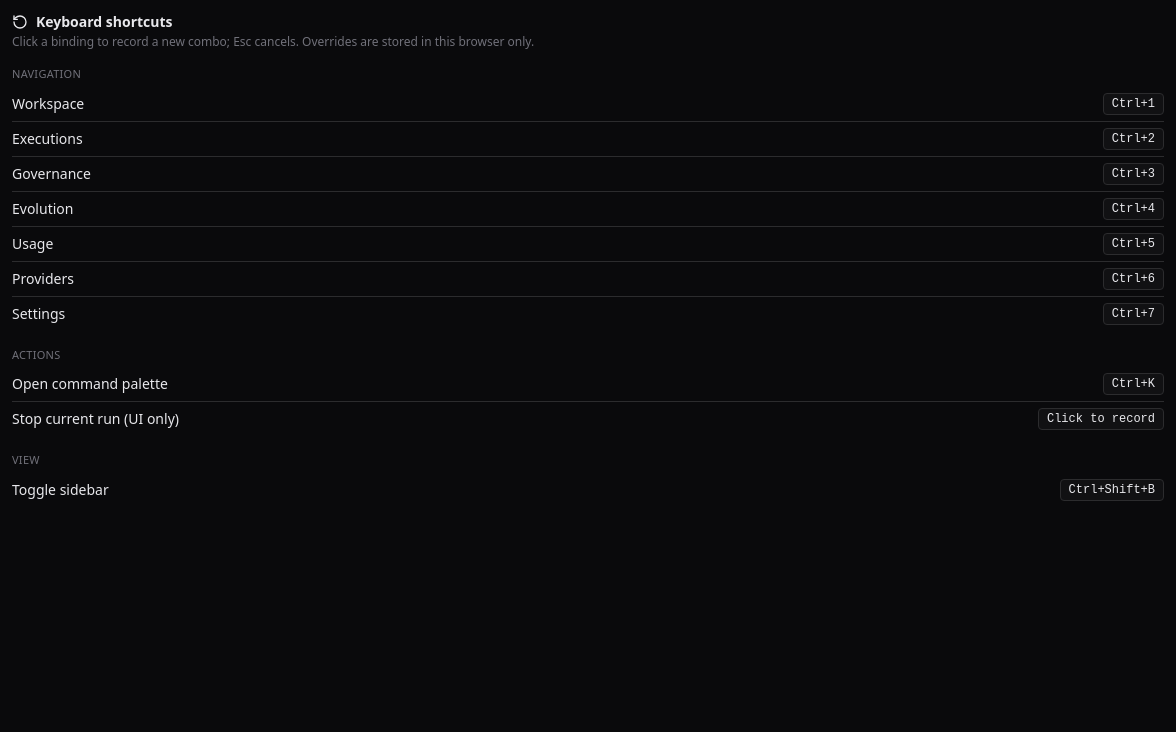
Test: ShortcutsSection › records a combo and persists it to storage
Click the button with test id "shortcuts-record" showing "Ctrl+1" at (1133, 104), box x1=1103 y1=92 x2=1164 y2=114
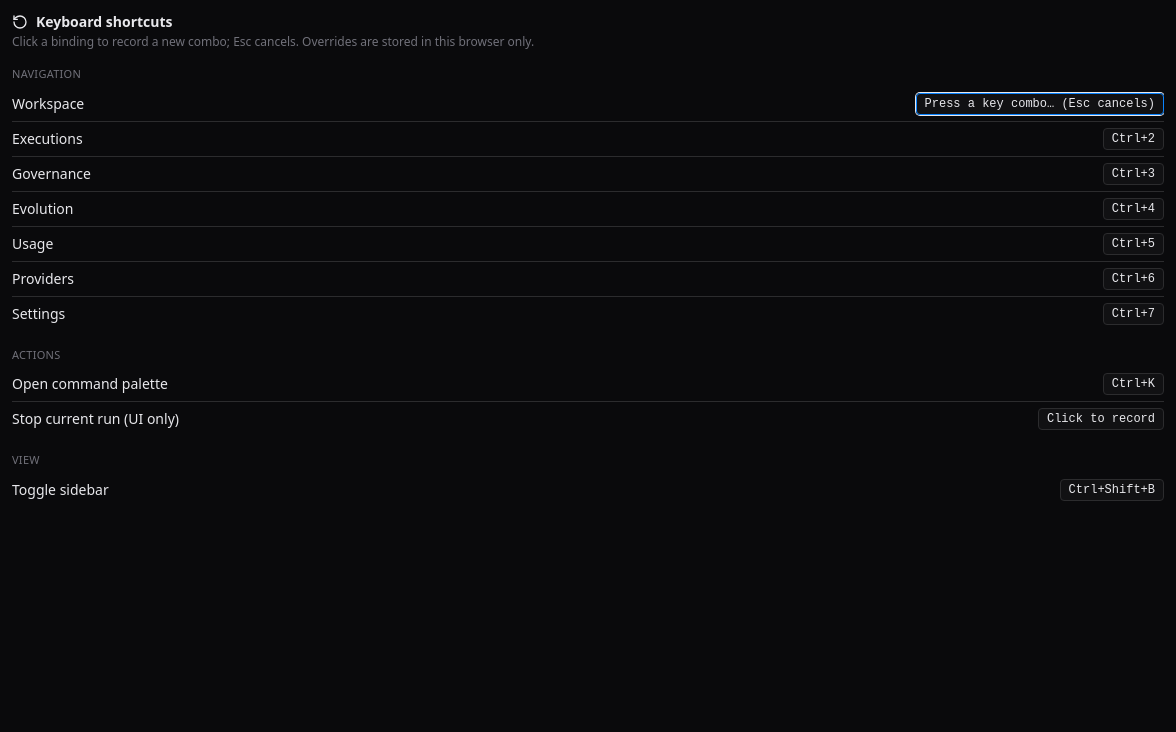
Result: the button with test id "shortcuts-record" shows "Press a key combo" at x1=916 y1=92 x2=1164 y2=114
Press j
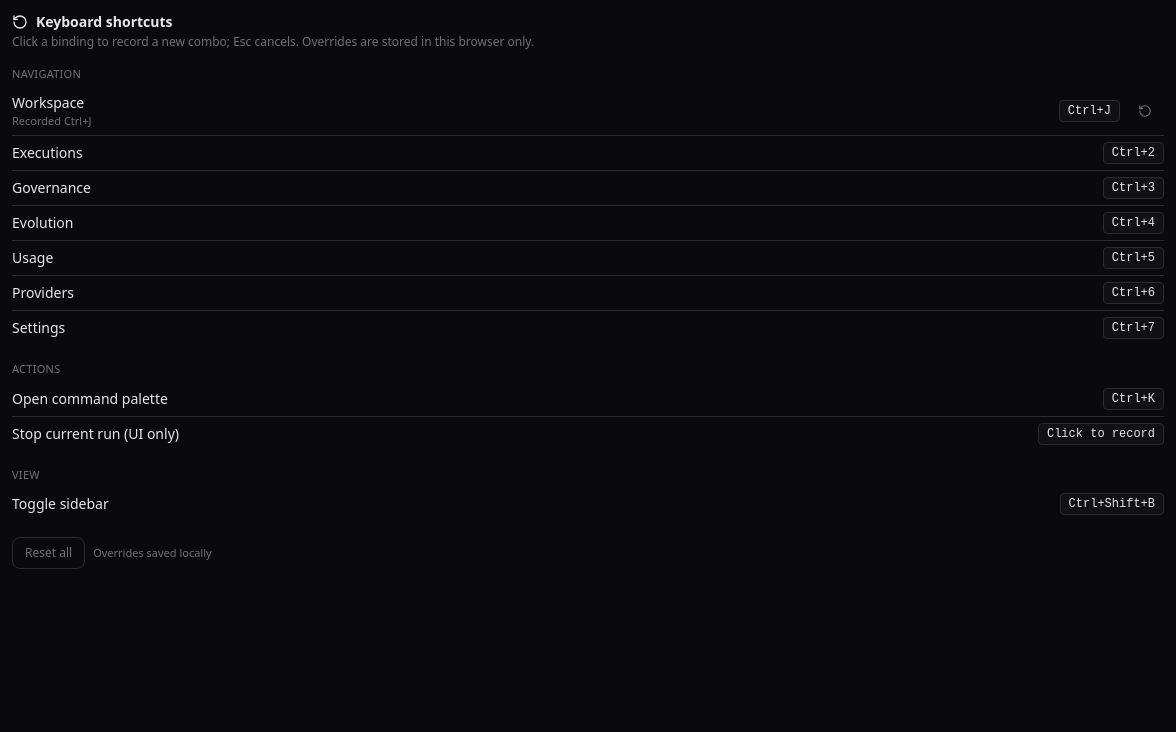
Result: the button with test id "shortcuts-record" reads "Ctrl+J" at x1=1059 y1=100 x2=1120 y2=122
Result: the message with test id "shortcuts-row-notice" reads "Recorded Ctrl+J" at x1=12 y1=112 x2=92 y2=128
